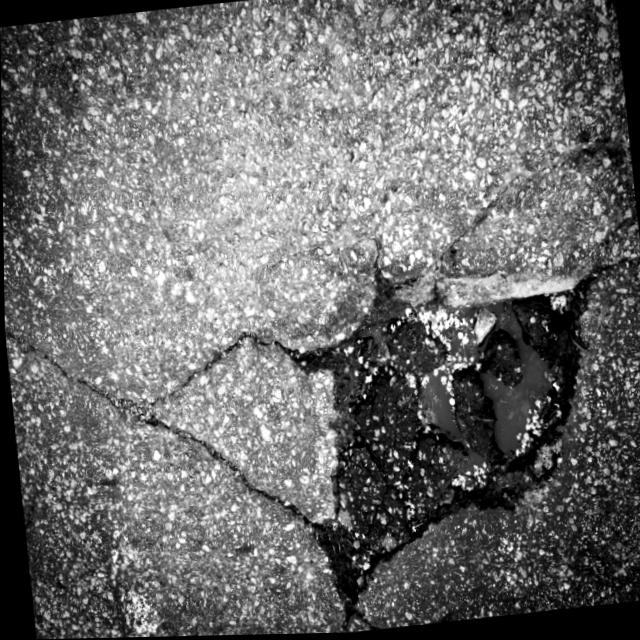pathole: (314, 262, 640, 633), (260, 280, 621, 575), (176, 339, 350, 523), (335, 322, 464, 552), (335, 324, 465, 552), (16, 450, 120, 640), (513, 305, 569, 389), (451, 372, 496, 463), (511, 328, 547, 405), (490, 336, 521, 389)
